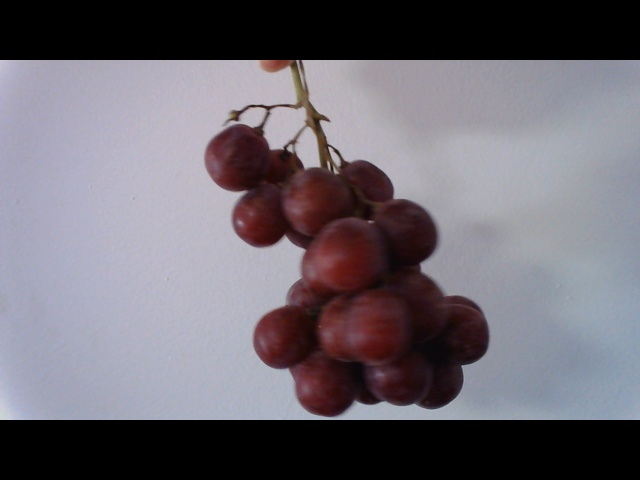grape: (197, 114, 495, 411)
